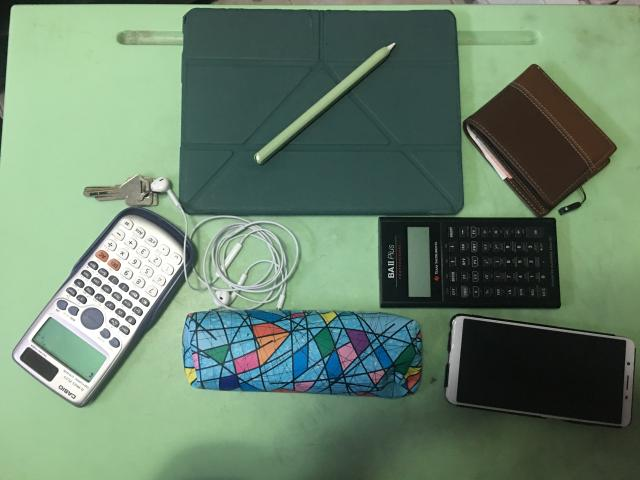Keys: (84, 174, 158, 206)
Mobile phone: (445, 315, 635, 428)
Wallet: (462, 64, 616, 216)
wire: (151, 178, 300, 310)
